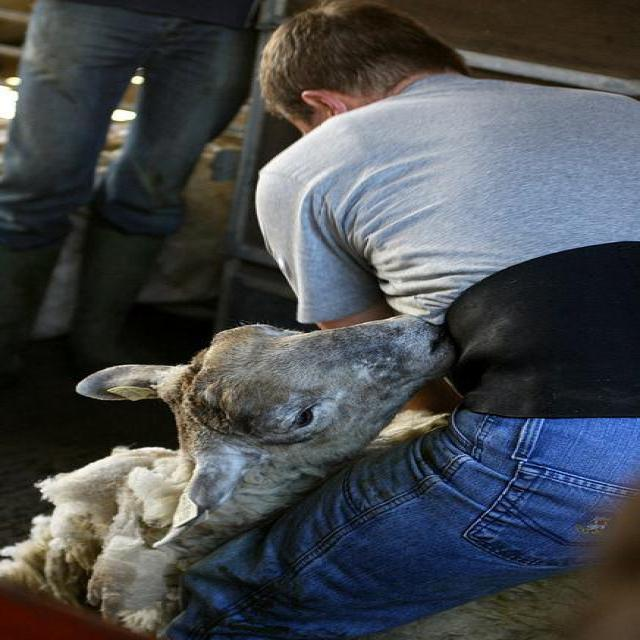Sheep: (0, 316, 449, 629)
